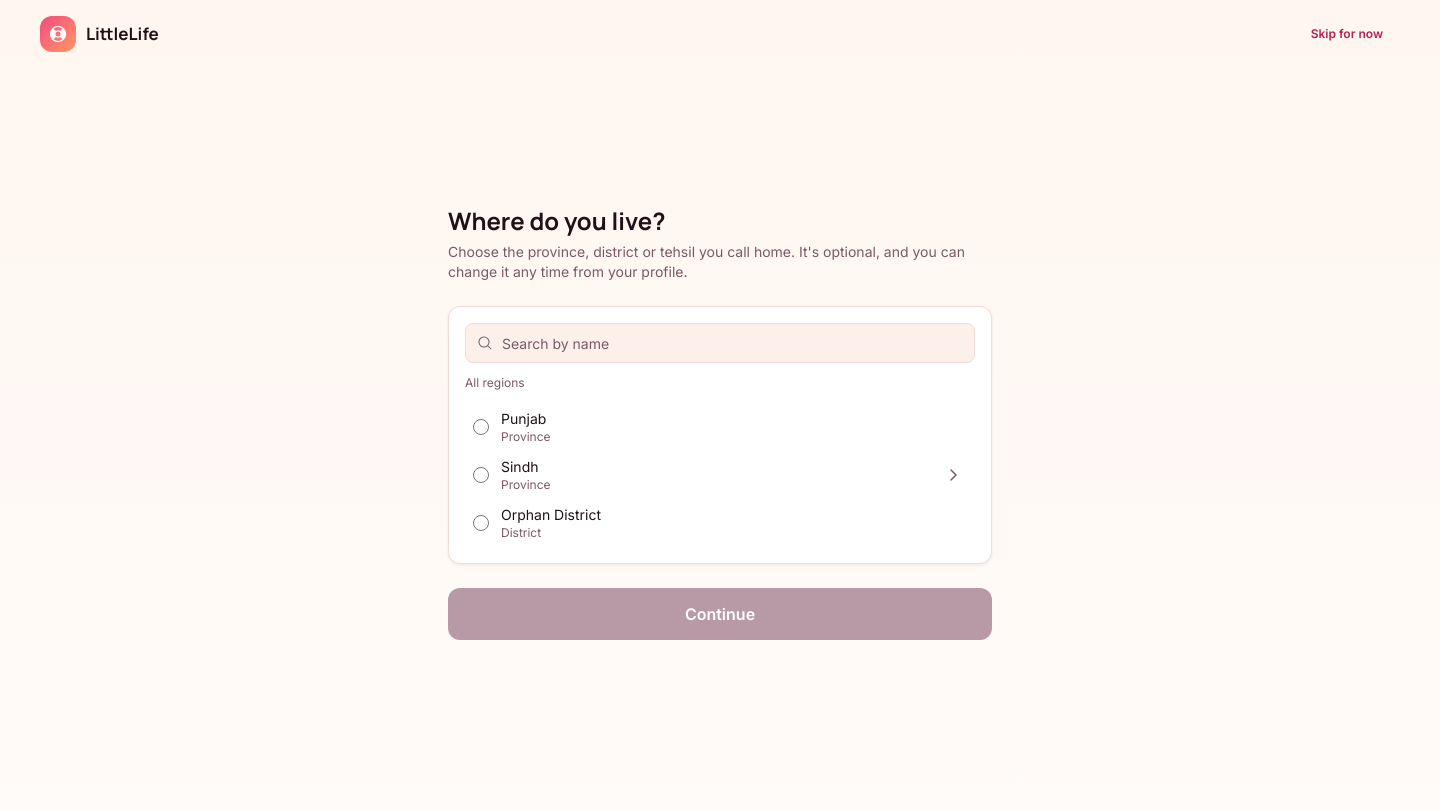
Scenario: OnboardingRegionPage › searches across every level
Type "larkana" into the search field named "Search regions" at (720, 343), box [465, 323, 975, 363]
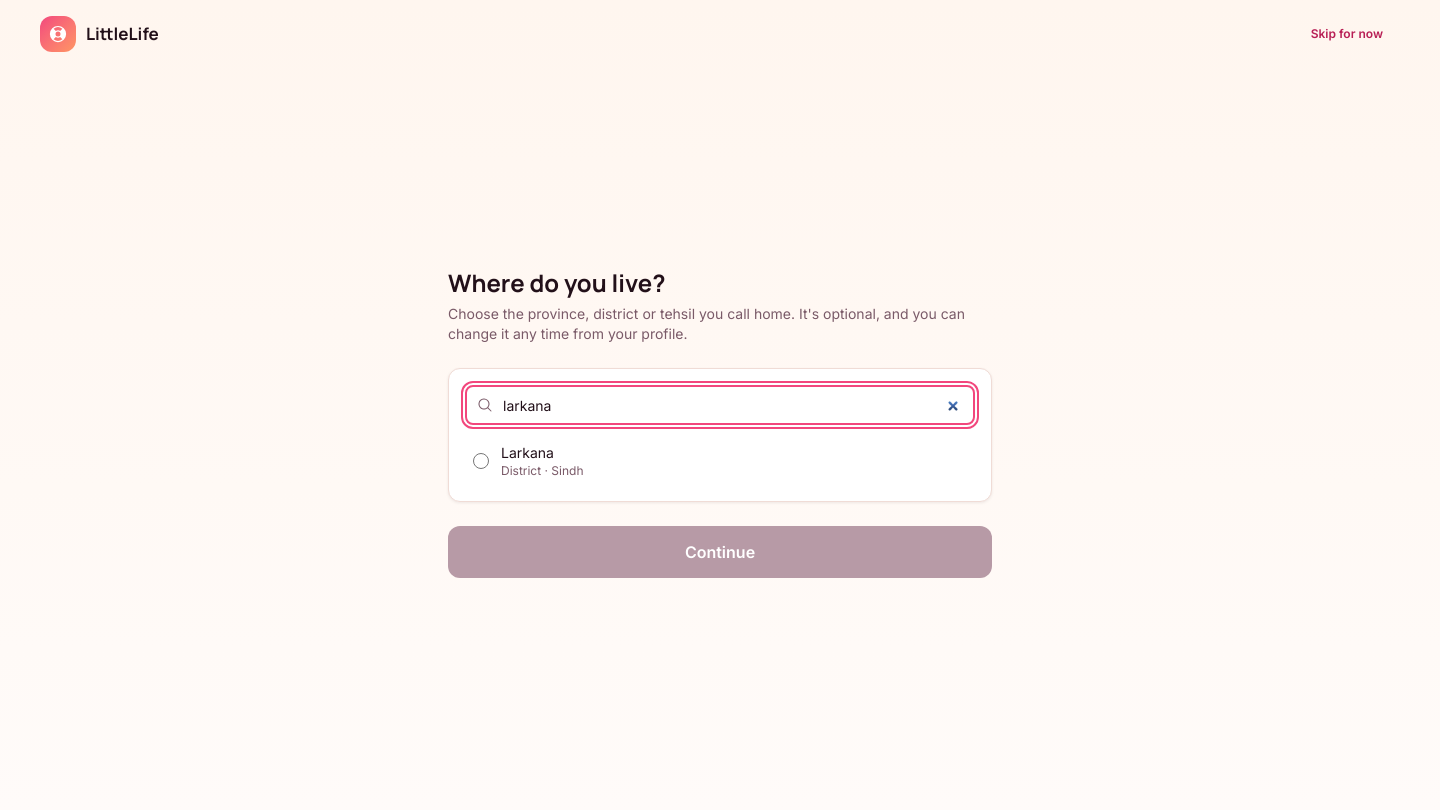
Check: the number of radio buttons is 1, box [473, 453, 489, 469]
